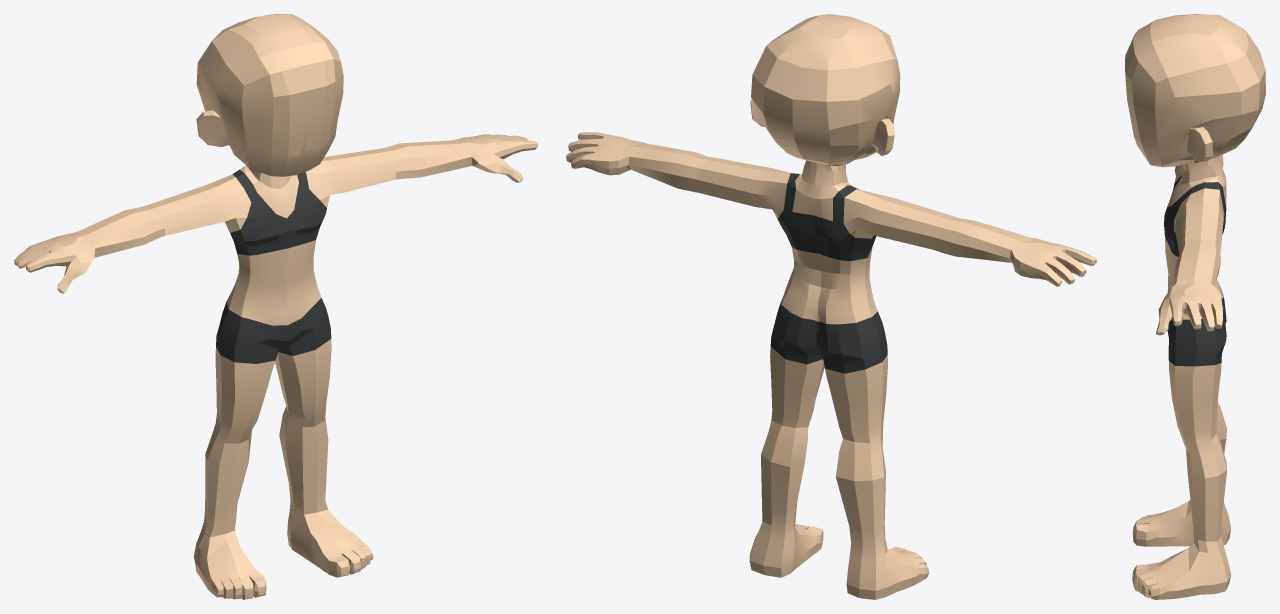
File: body_girl.fbx
3 renders of one model, left to right at view 1: azimuth 30°, elevation 25°; view 2: azimuth 150°, elevation 25°; view 3: azimuth 270°, elevation 25°, orthographic.
Parts seen in each view (by area): view 1: girl body; view 2: girl body; view 3: girl body.
Boxes of the visible parts, x1=… form: girl body: x1=14, y1=14, x2=537, y2=599; girl body: x1=566, y1=14, x2=1096, y2=599; girl body: x1=1125, y1=14, x2=1265, y2=599.
Bounding box in the file's own units: 464 × 472 × 111.
